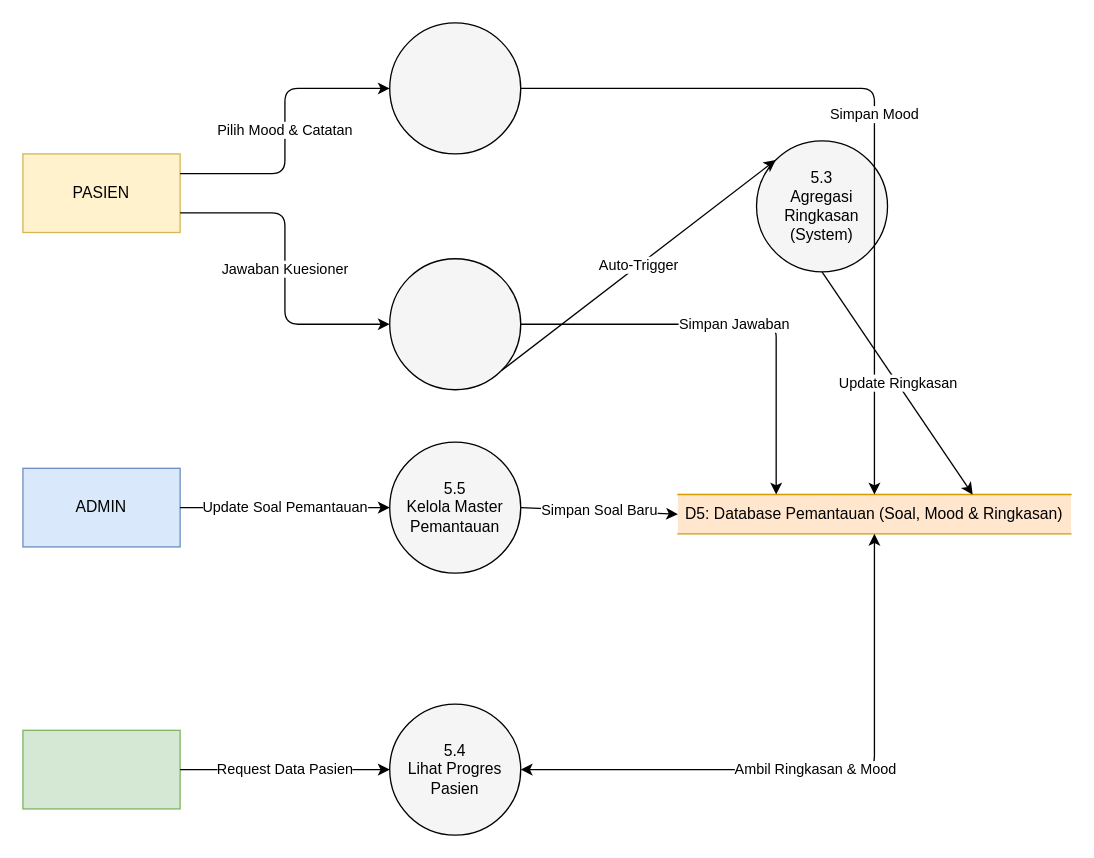
Some shapes in this 1094 by 858 pixel diagram are drawn without their labels. Each missing label, with the centre of its shape:
"5.1 Catat Mood Harian" goes at (x=454, y=88).
"5.2 Isi Pemantauan Mental" goes at (x=454, y=323).
"PSIKOLOG" goes at (x=101, y=769).
